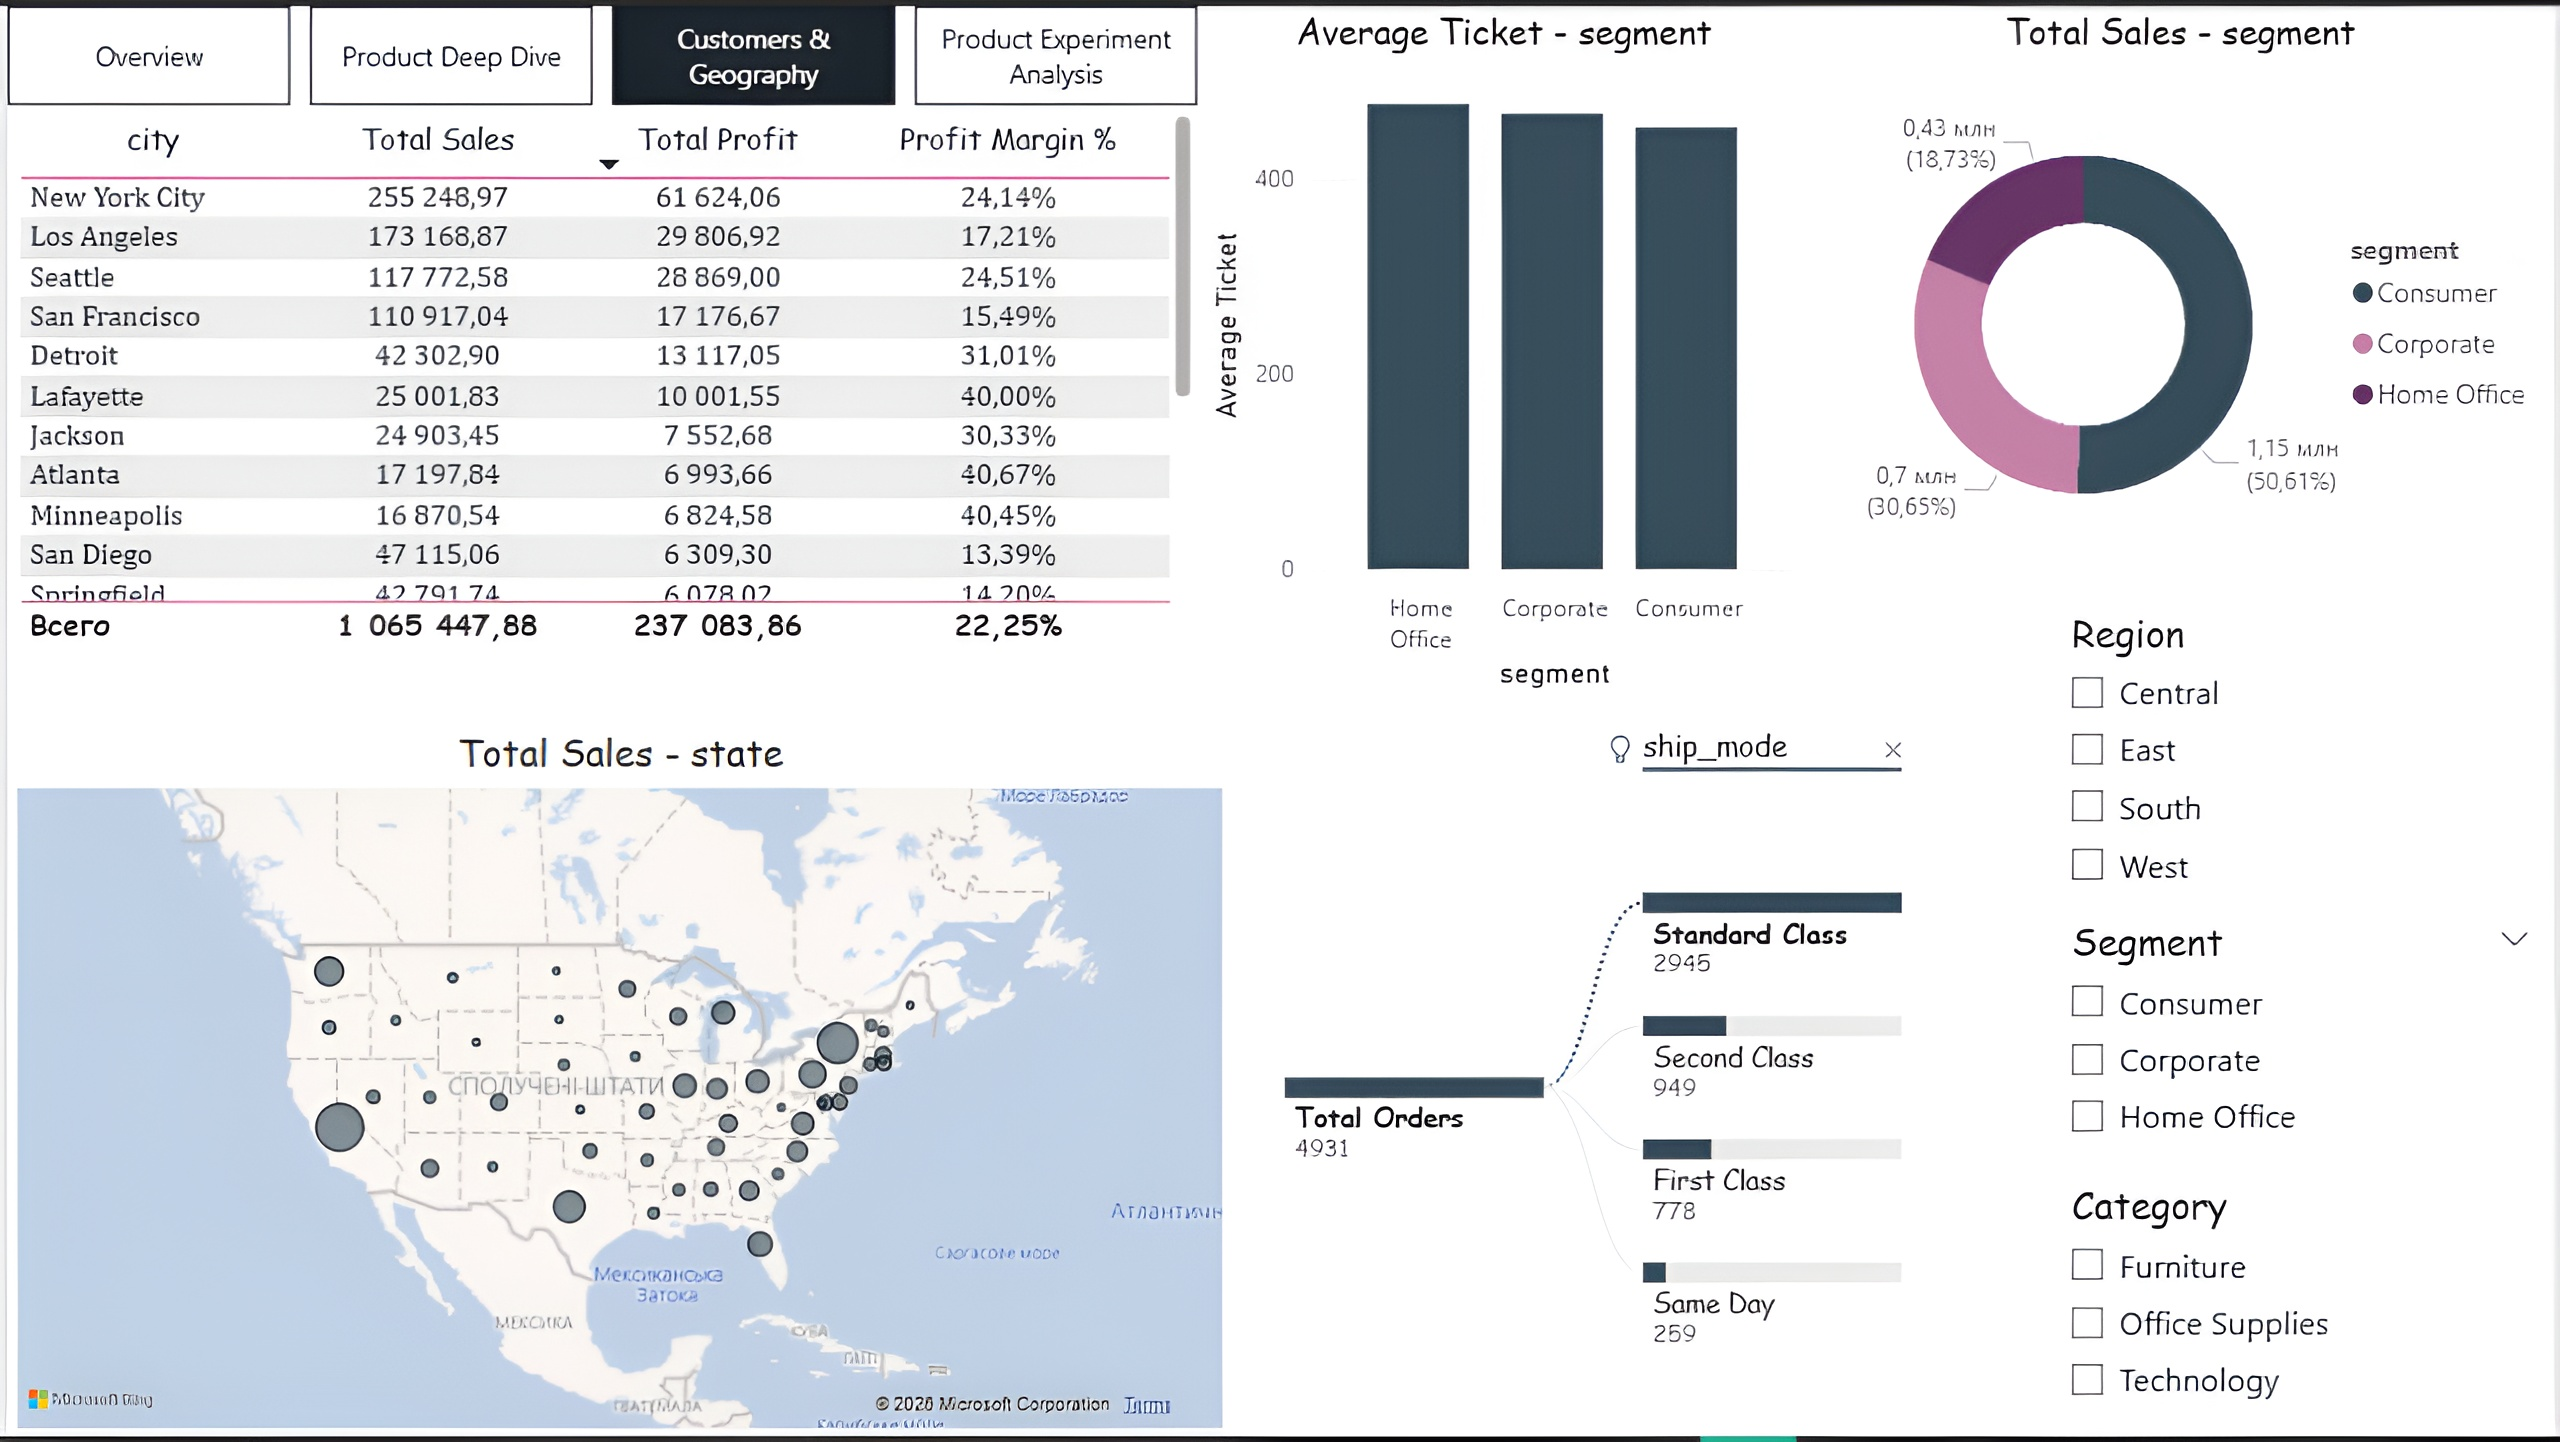

The page's visual inventory and layout, read from the dashboard file:
{"tool":"powerbi","page":{"name":"Customers & Geography","canvas":[1280,720],"ordinal":2},"visuals":[{"type":"map","title":"Total Sales - state","fields":{"Category":["Geography.state"],"Size":["Orders.Total Sales"]},"box":[0,361.4,615.7,358.6],"z":0},{"type":"donutChart","title":"Total Sales - segment","fields":{"Category":["Customers.segment"],"Y":["Orders.Total Sales"]},"box":[904.3,0,375.7,297.1],"z":1000},{"type":"lineClusteredColumnComboChart","title":"Average Ticket - segment","fields":{"Category":["Customers.segment"],"Y":["Orders.Average Ticket"]},"box":[600,0,304.3,348.6],"z":2000},{"type":"decompositionTreeVisual","fields":{"ExplainBy":["Orders.ship_mode"],"Analyze":["Orders.Total Orders"]},"box":[612.9,348.6,411.4,371.4],"z":3000},{"type":"tableEx","fields":{"Values":["Geography.city","Orders.Total Sales","Orders.Total Profit","Orders.Profit Margin %"]},"box":[0,50,600,277.1],"z":4000},{"type":"slicer","fields":{"Values":["Geography.region"]},"box":[1024.3,297.1,255.7,155.7],"z":5000},{"type":"slicer","fields":{"Values":["Customers.segment"]},"box":[1024.3,452.9,255.7,132.9],"z":6000},{"type":"slicer","fields":{"Values":["Products.category"]},"box":[1024.3,585.7,255.7,134.3],"z":7000},{"type":"pageNavigator","box":[0,0,600,50],"z":8000}]}

Visuals, with their boxes in screenshot pixels (x1, y1, x2, y2), scaled from the page's 1280x720 canvas onto the 2560x1442 screenshot:
"Total Sales - state" map: [0, 724, 1231, 1441]
"Total Sales - segment" donutChart: [1809, 0, 2559, 595]
"Average Ticket - segment" lineClusteredColumnComboChart: [1200, 0, 1809, 698]
decompositionTreeVisual - Orders.ship_mode x Orders.Total Orders: [1226, 698, 2049, 1441]
tableEx - Geography.city x Orders.Total Sales: [0, 100, 1200, 655]
slicer - Geography.region: [2049, 595, 2559, 907]
slicer - Customers.segment: [2049, 907, 2559, 1173]
slicer - Products.category: [2049, 1173, 2559, 1441]
pageNavigator: [0, 0, 1200, 100]
